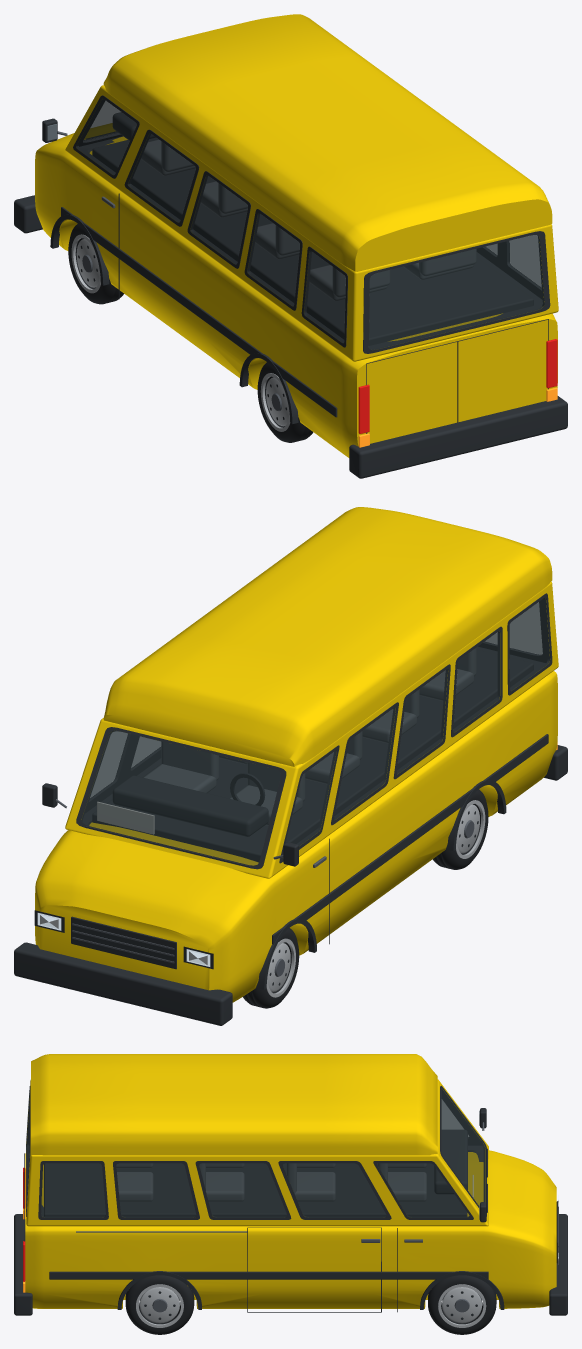
The model's file is istanbul-dolmus.glb.
3 renders of one model, top to bottom at view 1: azimuth 30°, elevation 25°; view 2: azimuth 150°, elevation 25°; view 3: azimuth 270°, elevation 25°, orthographic. The views are drawn at different scales.
Parts seen in each view (by area): view 1: Body geometry, Running wheel geometry.002, Running wheel geometry; view 2: Body geometry, Running wheel geometry, Running wheel geometry.002; view 3: Body geometry, Running wheel geometry.003, Running wheel geometry.001.
Boxes of the visible parts, left/top/right/bottom form: Body geometry: left=14, top=14, right=567, bottom=478; Running wheel geometry.002: left=257, top=362, right=313, bottom=442; Running wheel geometry: left=68, top=224, right=123, bottom=304; Body geometry: left=14, top=507, right=567, bottom=1025; Running wheel geometry: left=243, top=928, right=299, bottom=1008; Running wheel geometry.002: left=432, top=789, right=488, bottom=869; Body geometry: left=14, top=1054, right=567, bottom=1315; Running wheel geometry.003: left=125, top=1275, right=194, bottom=1334; Running wheel geometry.001: left=428, top=1275, right=496, bottom=1334.
Size of the model in its own units: 1.7 by 1.73 by 4.03.
